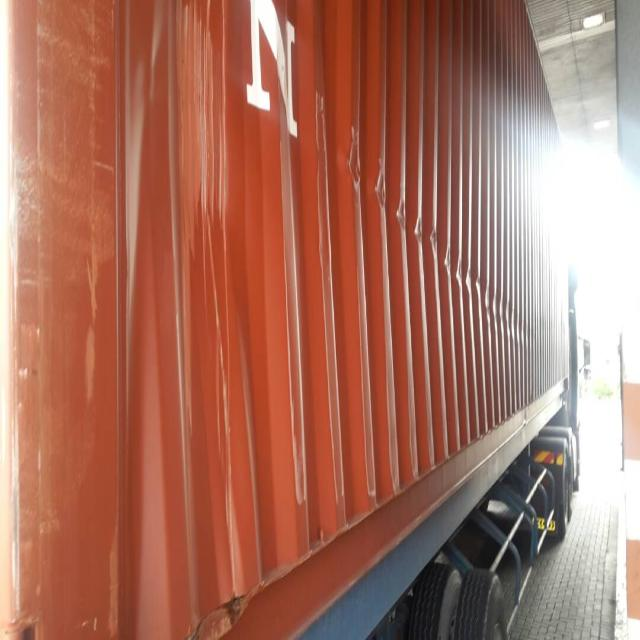dent: (315, 95, 329, 156), (349, 130, 361, 190), (396, 196, 408, 232), (378, 164, 387, 208), (485, 280, 492, 310), (429, 231, 438, 254), (447, 247, 453, 274), (417, 214, 422, 244), (494, 292, 499, 319), (468, 270, 473, 291), (459, 261, 463, 287), (501, 299, 504, 326), (476, 274, 481, 290)
